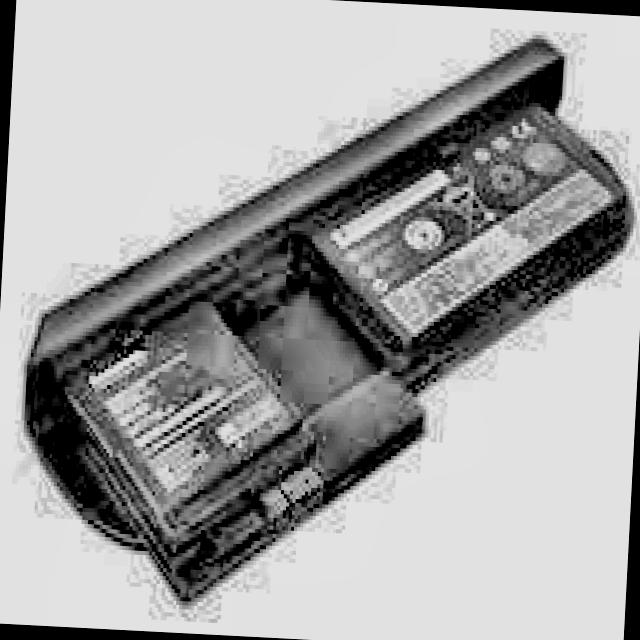Battery: (18, 10, 640, 628)
